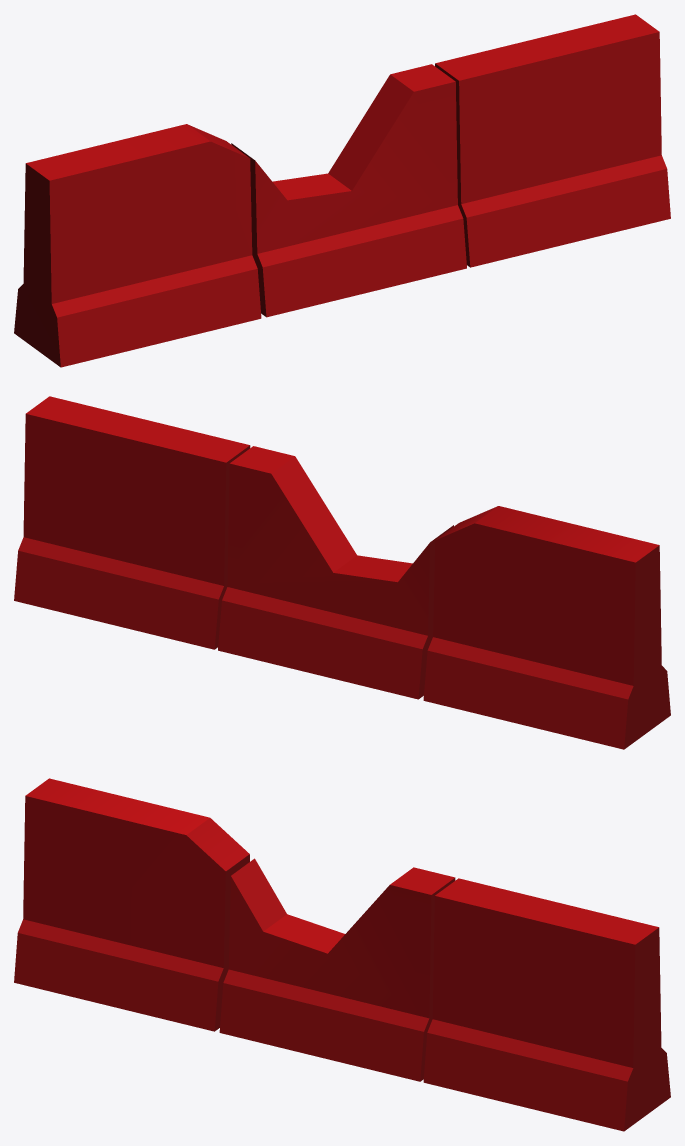
Rendered from Wall3.fbx.
The picture shows the model from 3 angles, top to bottom: view 1: azimuth 30°, elevation 25°; view 2: azimuth 150°, elevation 25°; view 3: azimuth 330°, elevation 25°; orthographic projection.
Visible parts, largest first — view 1: Wall3; view 2: Wall3; view 3: Wall3.
Boxes of the visible parts, <box> form: Wall3: <box>14,14,670,367</box>; Wall3: <box>14,396,670,749</box>; Wall3: <box>14,778,670,1131</box>.
Bounding box in the file's own units: 322 × 90.17 × 42.89.
